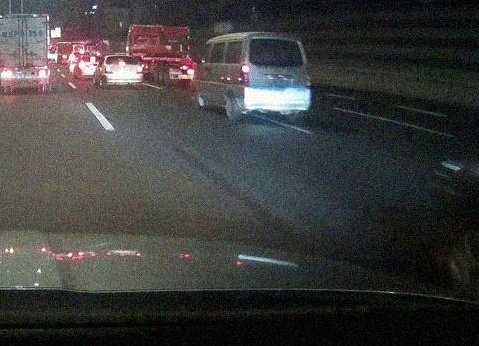L_light: (241, 65, 250, 84), (1, 70, 12, 78), (105, 66, 112, 73)
R_light: (305, 67, 311, 85), (36, 70, 48, 77), (137, 66, 142, 73)
T_light: (270, 39, 280, 42), (18, 16, 26, 19), (119, 62, 125, 65)
night-brake: (104, 55, 143, 88)
night-left: (240, 33, 311, 122)
night-no: (0, 15, 49, 93)
